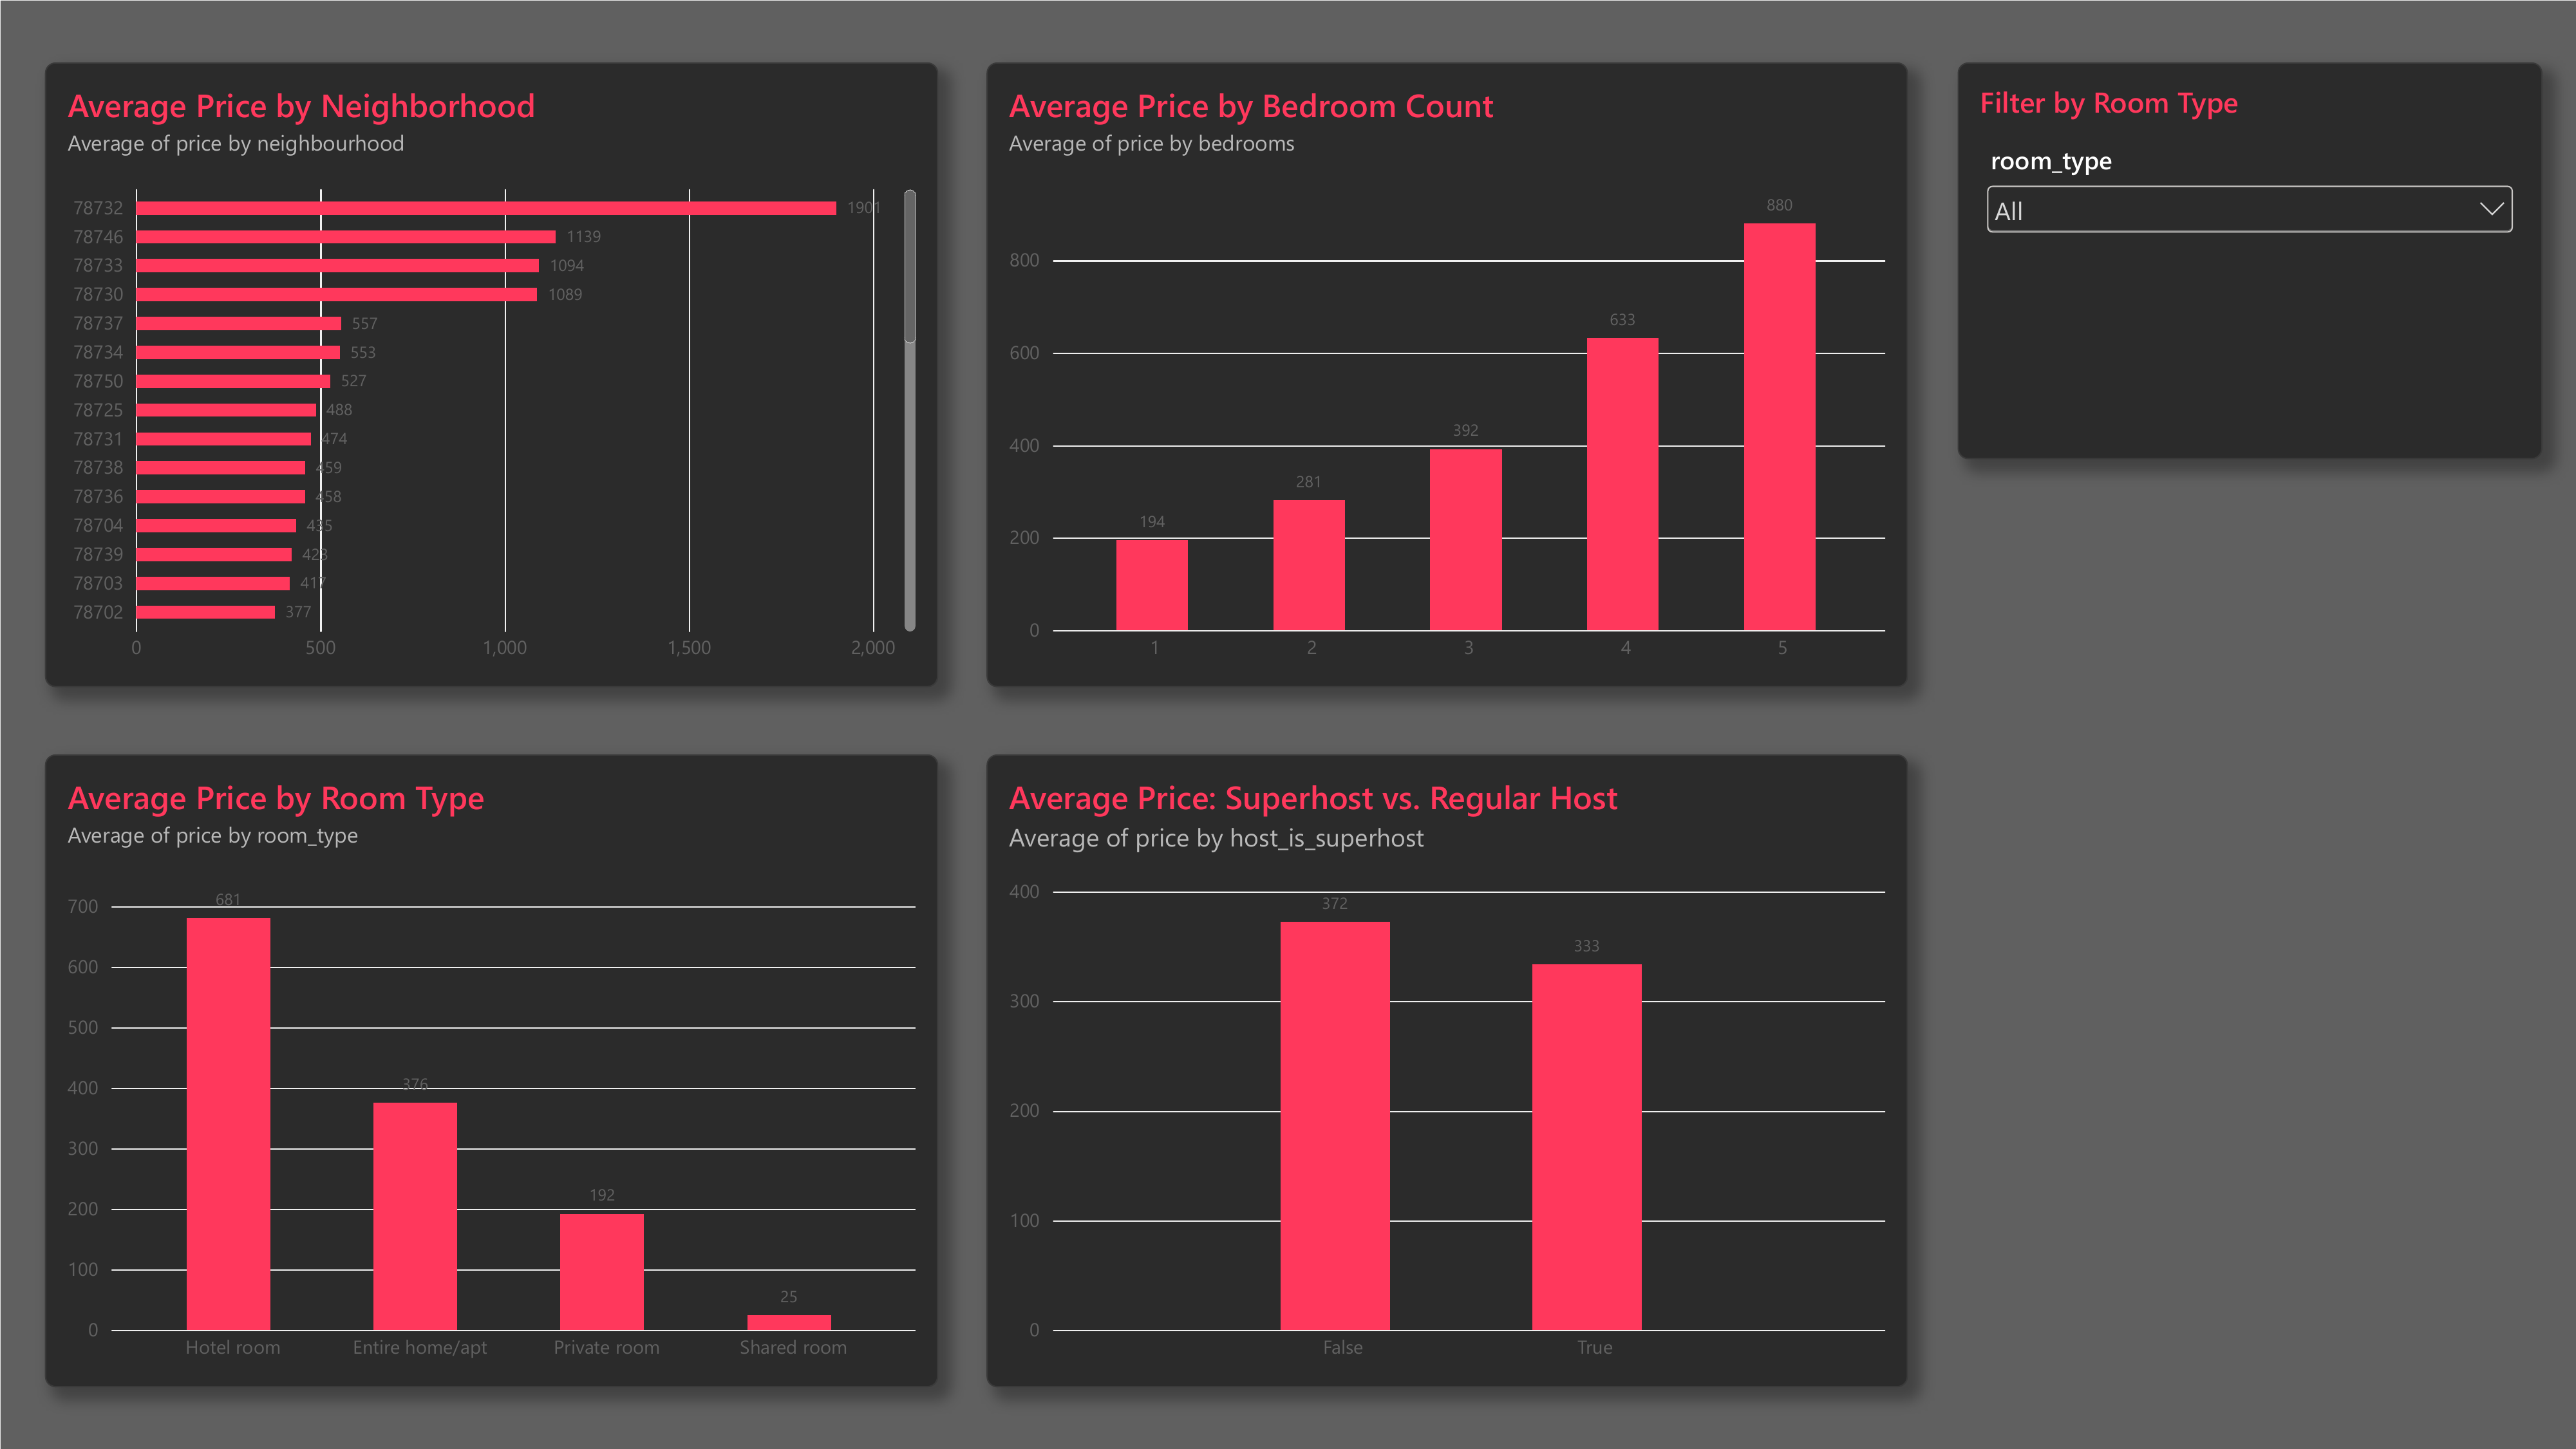

Layout of this report page (visuals, bound fields, positions):
{"tool":"powerbi","page":{"name":"Pricing Analysis","canvas":[1920,1080],"ordinal":1},"visuals":[{"type":"clusteredBarChart","title":"Average Price by Neighborhood","fields":{"Category":["public listings_clean.neighbourhood"],"Y":["Avg(public listings_clean.price)"]},"box":[32.6,45.6,666.3,466.1],"z":0},{"type":"clusteredColumnChart","title":"Average Price by Room Type","fields":{"Category":["public listings_clean.room_type"],"Y":["Avg(public listings_clean.price)"]},"box":[32.6,562.4,666.3,471.7],"z":1000},{"type":"clusteredColumnChart","title":"Average Price by Bedroom Count","fields":{"Category":["public listings_clean.bedrooms"],"Y":["Avg(public listings_clean.price)"]},"box":[735.3,45.6,686.9,466.1],"z":2000},{"type":"clusteredColumnChart","title":"Average Price: Superhost vs. Regular Host","fields":{"Category":["public listings_clean.host_is_superhost"],"Y":["Avg(public listings_clean.price)"]},"box":[735.3,562.4,686.9,471.7],"z":3000},{"type":"slicer","title":"Filter by Room Type","fields":{"Values":["public listings_clean.room_type"]},"box":[1458.6,45.6,436.1,296.8],"z":4000}]}

Visuals, with their boxes in screenshot pixels (x1, y1, x2, y2), scaled from the page's 1920x1080 canvas onto the 2576x1449 screenshot:
"Average Price by Neighborhood" clusteredBarChart: 44,61,937,687
"Average Price by Room Type" clusteredColumnChart: 44,754,937,1387
"Average Price by Bedroom Count" clusteredColumnChart: 986,61,1908,687
"Average Price: Superhost vs. Regular Host" clusteredColumnChart: 986,754,1908,1387
"Filter by Room Type" slicer: 1957,61,2542,460
